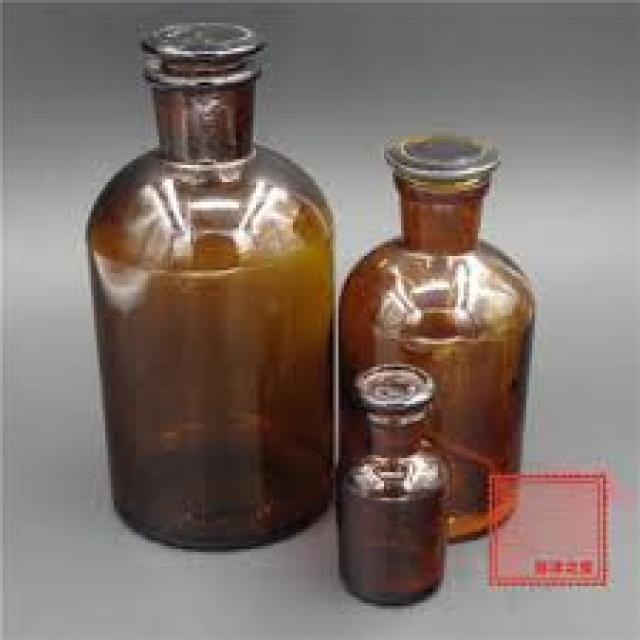glass: (88, 23, 532, 603)
